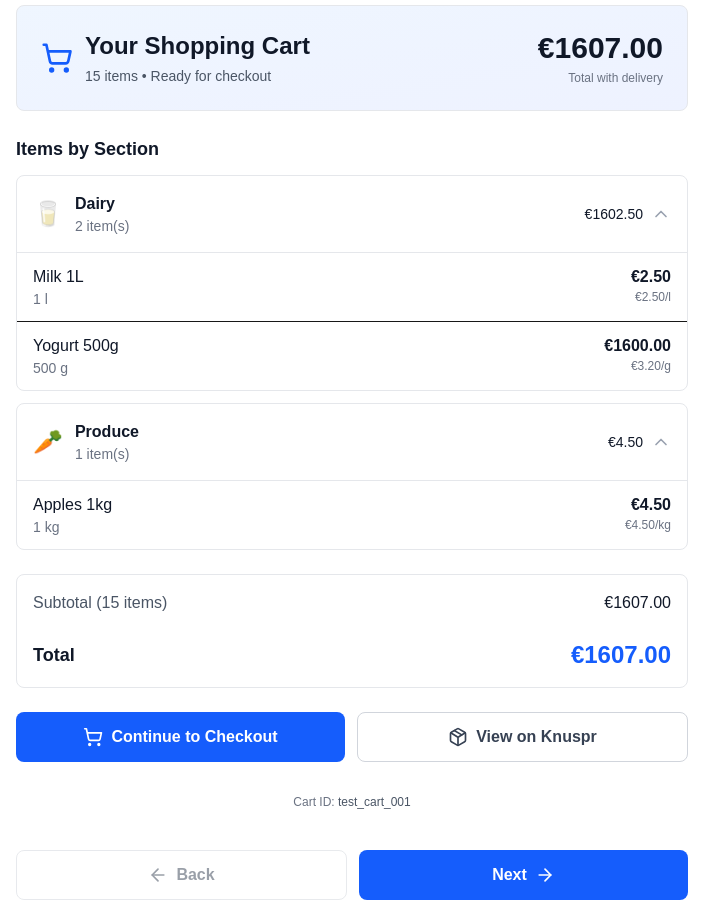
Test case: CheckoutFlow Component › Step 1: Cart Review › navigates to delivery step when Next button clicked
The width and height of the screenshot is (705, 900).
(page scrolled)
Click the button "Next": [524, 875] box [359,850,688,899]
(page scrolled)
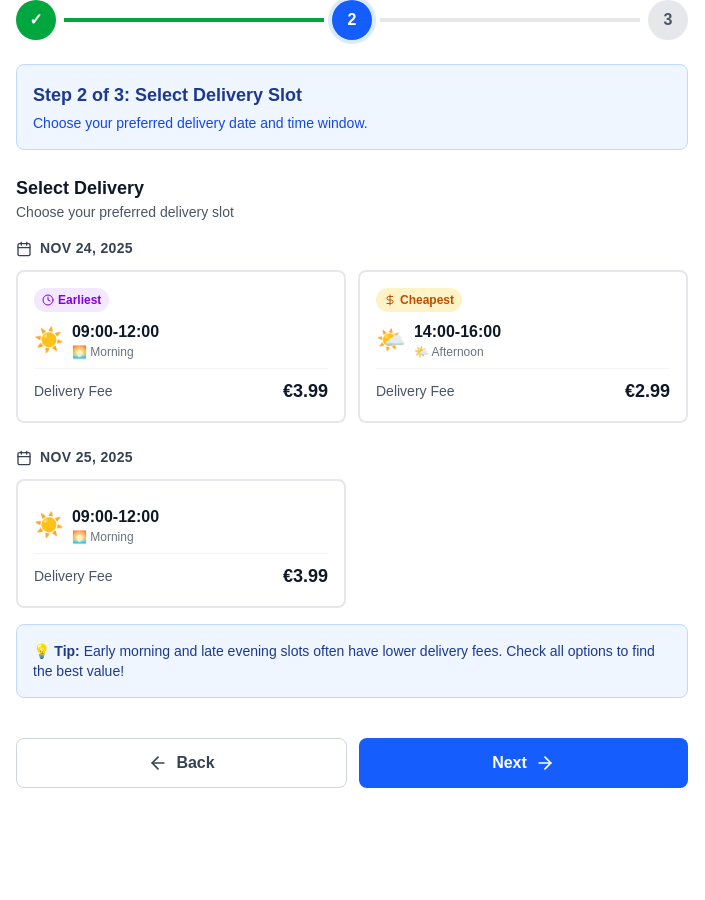
Result: the heading "Step 2 of 3: Select Delivery Slot" is shown at [33,85,302,105]
